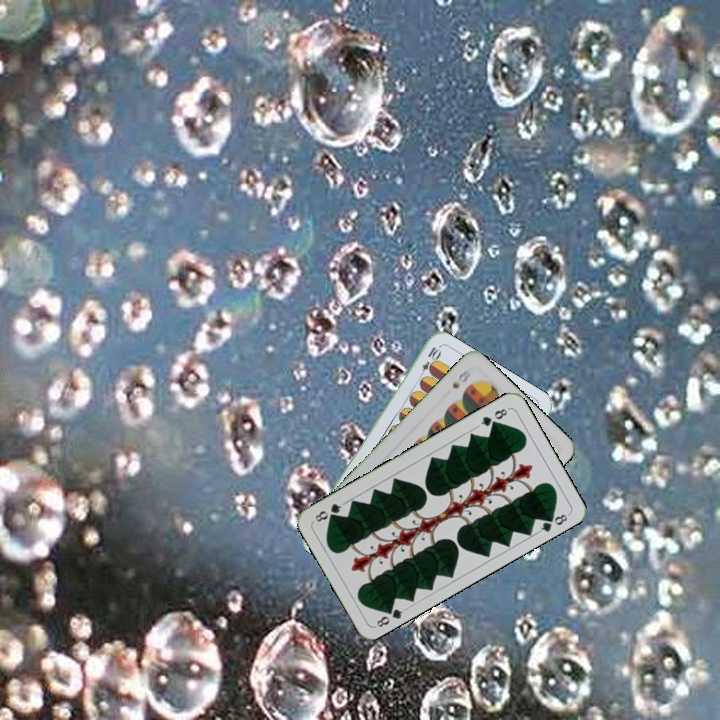E10: (415, 343, 442, 381)
G8: (372, 601, 409, 630), (474, 404, 511, 430)
S8: (448, 365, 473, 391)
